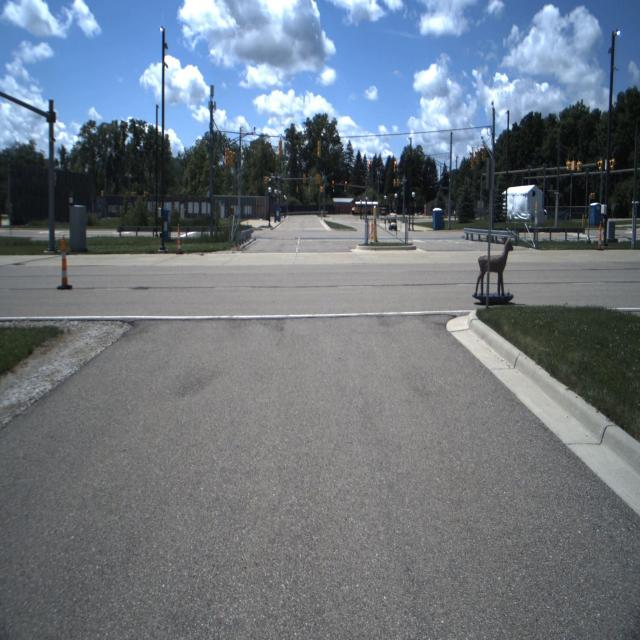Deer: (474, 237, 514, 294)
